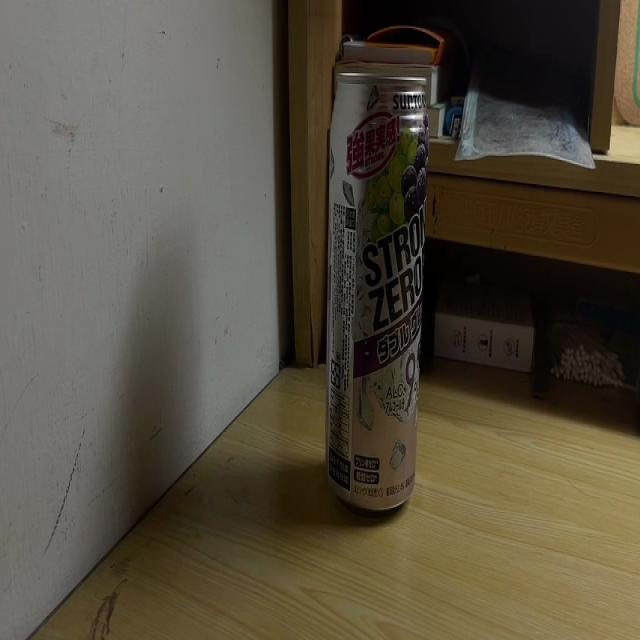Liquor: (326, 70, 424, 519)
